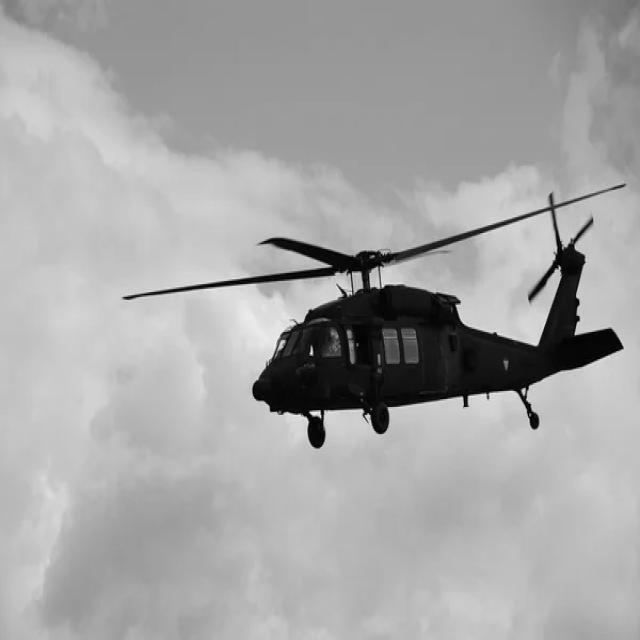Helicopter: (123, 184, 627, 448)
